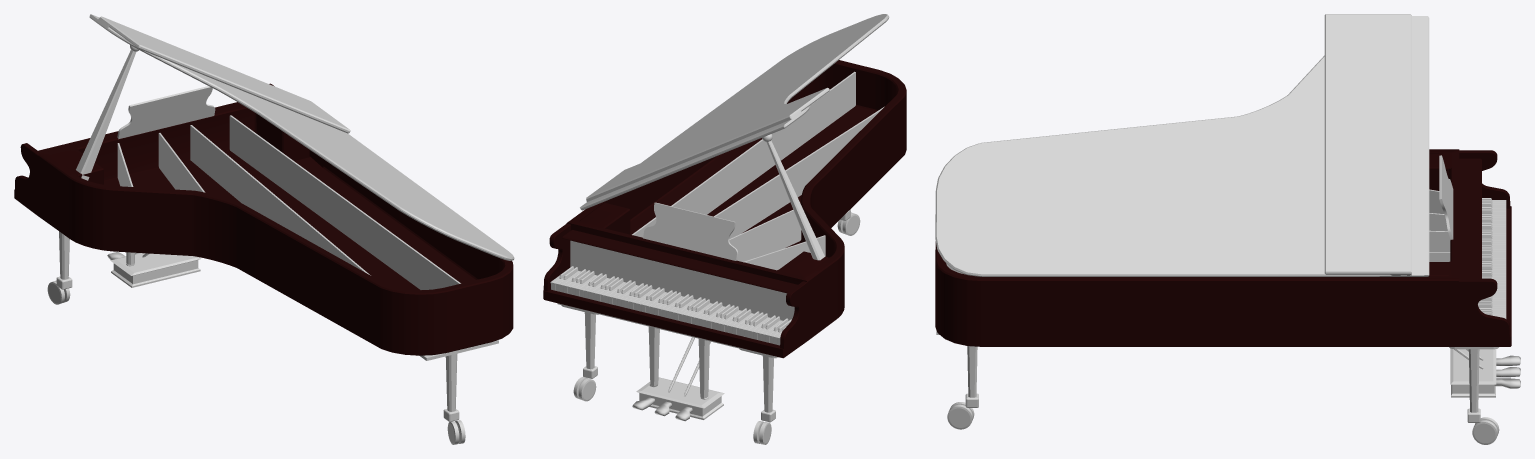
The model's file is piano.fbx.
The picture shows the model from 3 angles, left to right: view 1: azimuth 30°, elevation 25°; view 2: azimuth 150°, elevation 25°; view 3: azimuth 270°, elevation 25°; orthographic projection. The views are drawn at different scales.
Visible parts, largest first — view 1: grand piano, klapa, Przegroda, Przegroda.001, stojak pod nuty, pudlo z pedalami, podporka, Przegroda.002, Noga.002, Noga; view 2: grand piano, klapa, logo, Przegroda, Przegroda.001, stojak pod nuty, Przegroda.002, pudlo z pedalami, dopedalow, podporka, Przegroda.003, Noga (+4 smaller); view 3: klapa, grand piano, pudlo z pedalami, Noga.001, stojak pod nuty, Noga.002, Kolka.001, Kolka.002.
Boxes of the visible parts, x1=… form: grand piano: x1=14, y1=83, x2=513, y2=355; klapa: x1=89, y1=14, x2=514, y2=260; Przegroda: x1=229, y1=115, x2=460, y2=289; Przegroda.001: x1=190, y1=125, x2=370, y2=275; stojak pod nuty: x1=117, y1=86, x2=215, y2=139; pudlo z pedalami: x1=110, y1=253, x2=201, y2=287; podporka: x1=76, y1=50, x2=136, y2=180; Przegroda.002: x1=158, y1=133, x2=205, y2=192; Noga.002: x1=443, y1=353, x2=459, y2=421; Noga: x1=56, y1=231, x2=72, y2=289; grand piano: x1=543, y1=60, x2=906, y2=358; klapa: x1=580, y1=14, x2=889, y2=210; logo: x1=570, y1=240, x2=794, y2=320; Przegroda: x1=632, y1=71, x2=855, y2=237; Przegroda.001: x1=714, y1=106, x2=884, y2=238; stojak pod nuty: x1=643, y1=202, x2=738, y2=260; Przegroda.002: x1=729, y1=210, x2=801, y2=261; pudlo z pedalami: x1=636, y1=377, x2=724, y2=419; dopedalow: x1=648, y1=326, x2=709, y2=399; podporka: x1=766, y1=140, x2=824, y2=260; Przegroda.003: x1=743, y1=235, x2=825, y2=270; Noga: x1=739, y1=348, x2=778, y2=422; klapa: x1=935, y1=14, x2=1429, y2=276; grand piano: x1=935, y1=149, x2=1511, y2=346; pudlo z pedalami: x1=1450, y1=348, x2=1496, y2=397; Noga.001: x1=1449, y1=347, x2=1498, y2=422; stojak pod nuty: x1=1439, y1=155, x2=1453, y2=239; Noga.002: x1=965, y1=346, x2=978, y2=407; Kolka.001: x1=1472, y1=417, x2=1499, y2=444; Kolka.002: x1=947, y1=402, x2=974, y2=429.
Bounding box in the file's own units: 303 × 358 × 566.
